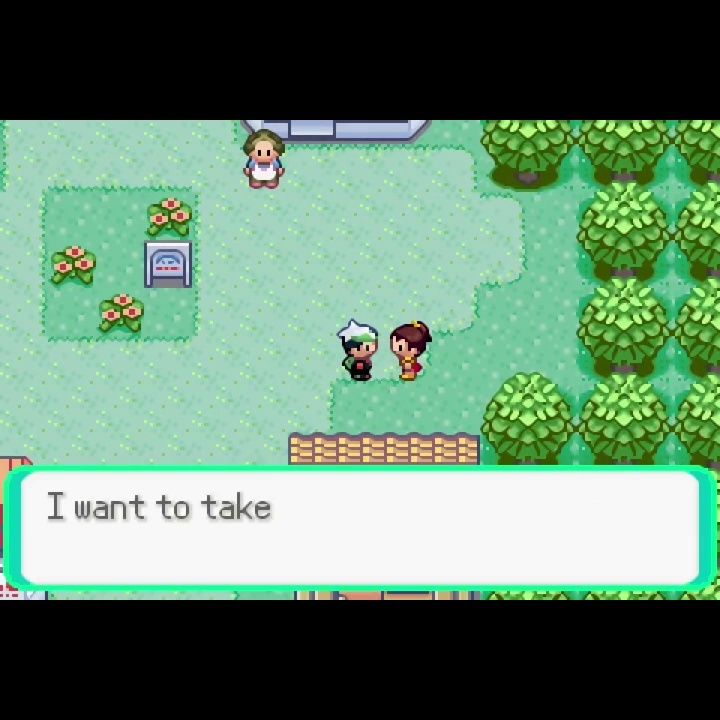npc: (242, 126, 289, 191), (390, 319, 435, 382), (338, 319, 381, 383)
wall: (576, 275, 672, 374), (575, 179, 671, 276), (479, 372, 576, 465), (576, 372, 672, 465), (479, 120, 576, 194), (576, 121, 671, 181), (671, 178, 720, 275), (672, 275, 720, 372), (672, 371, 720, 466), (671, 120, 720, 180)
